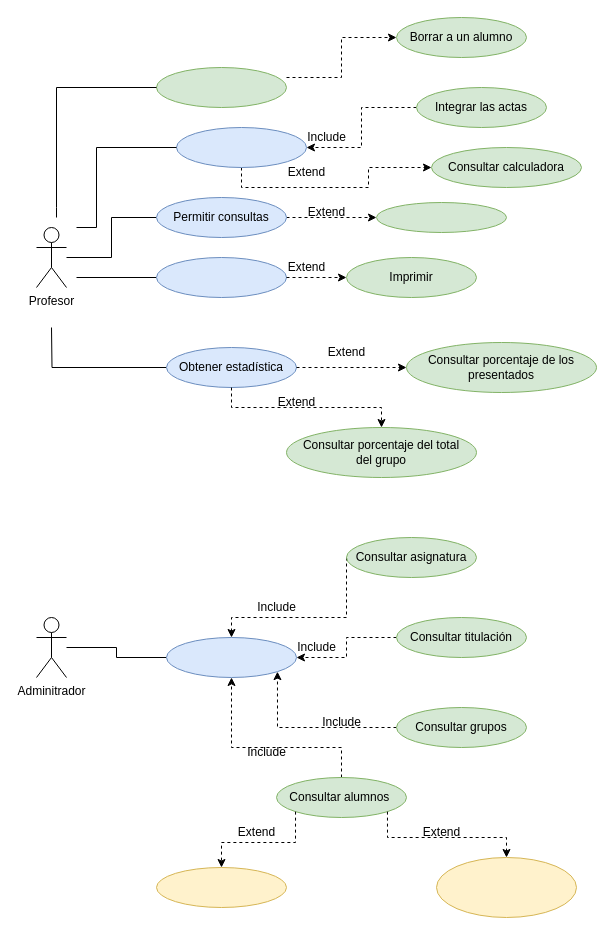
The diagram is 614 pixels wide and 935 high, and some of its shapes have lost their labels. Each missing label, with the box of its shape:
Añadir a un alumno: (156, 66, 286, 108)
Completar un acta: (176, 126, 306, 168)
Consultar alumnos con matricula: (436, 856, 576, 918)
Consultar historial académico: (156, 866, 286, 908)
CRUD: (166, 636, 296, 678)
Poder importar y exportar: (156, 256, 286, 298)
Visualizar gráfico: (376, 202, 506, 232)
